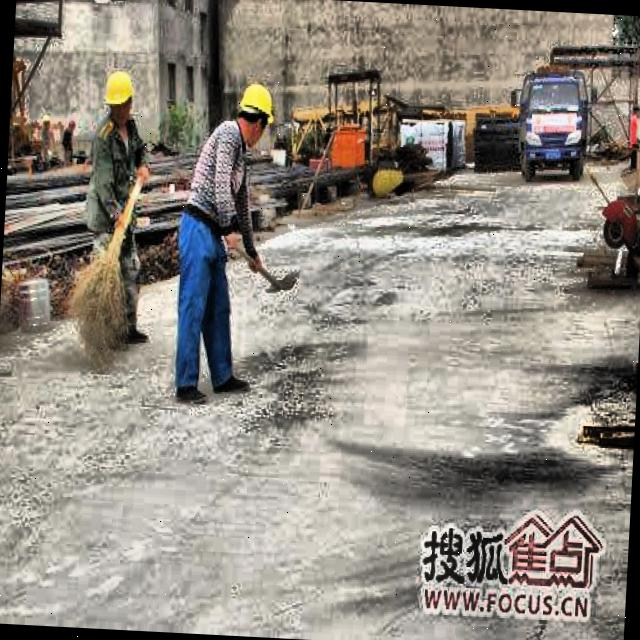helmet: (235, 78, 278, 146), (102, 66, 139, 126)
